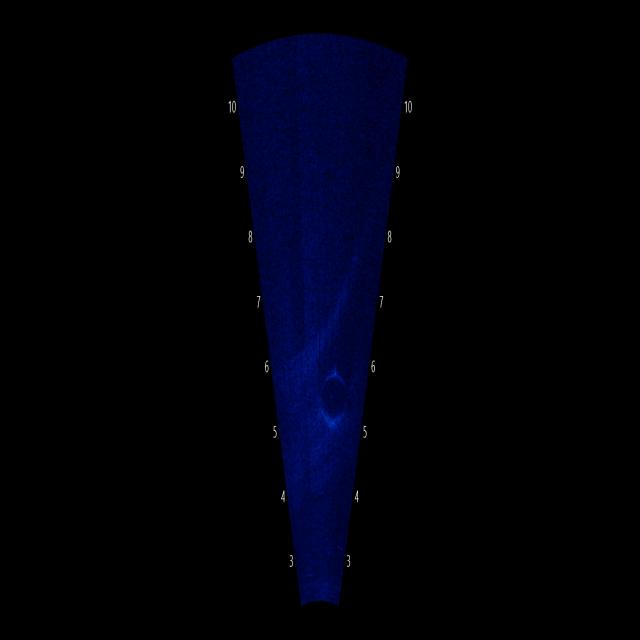circle: (315, 353, 354, 449)
